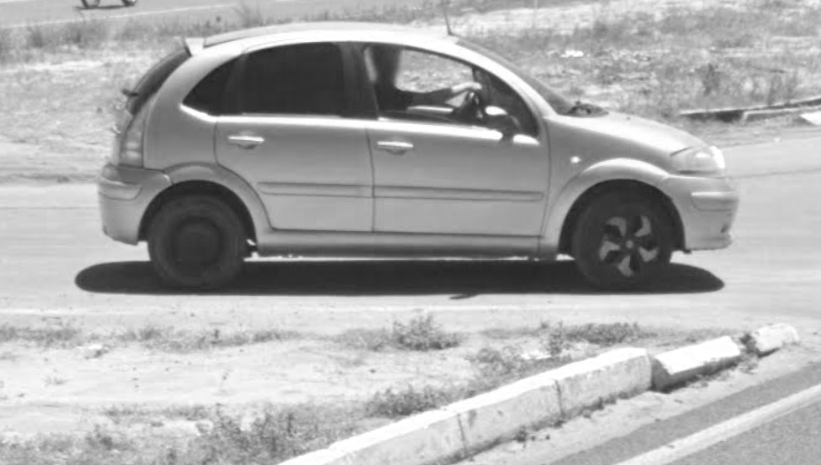car: (98, 5, 741, 295)
